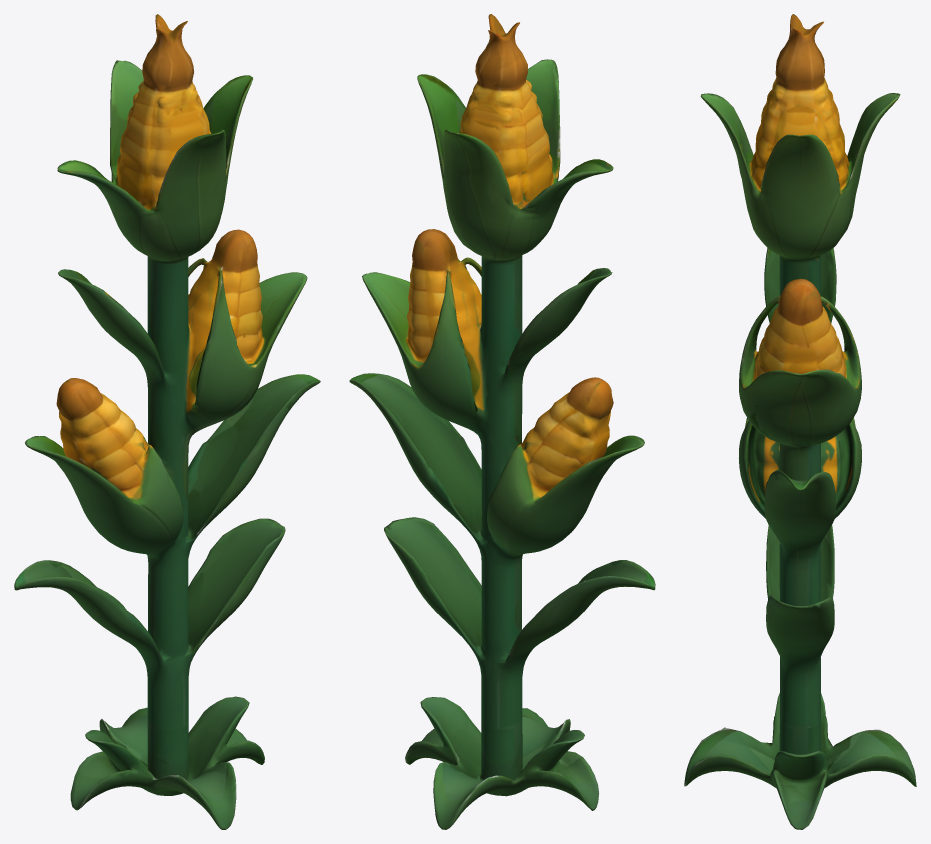
File: Milho.glb
3 renders of one model, left to right at view 1: azimuth 30°, elevation 25°; view 2: azimuth 150°, elevation 25°; view 3: azimuth 270°, elevation 25°, orthographic.
Parts seen in each view (by area): view 1: model; view 2: model; view 3: model.
Boxes of the visible parts, x1,y1,x2,y2 form: model: (14,14,320,829); model: (349,14,655,829); model: (684,14,916,829).
Size of the model in its own units: 0.7911 by 1.9 by 0.5224.
Materials: 1 (1 with a texture image).
